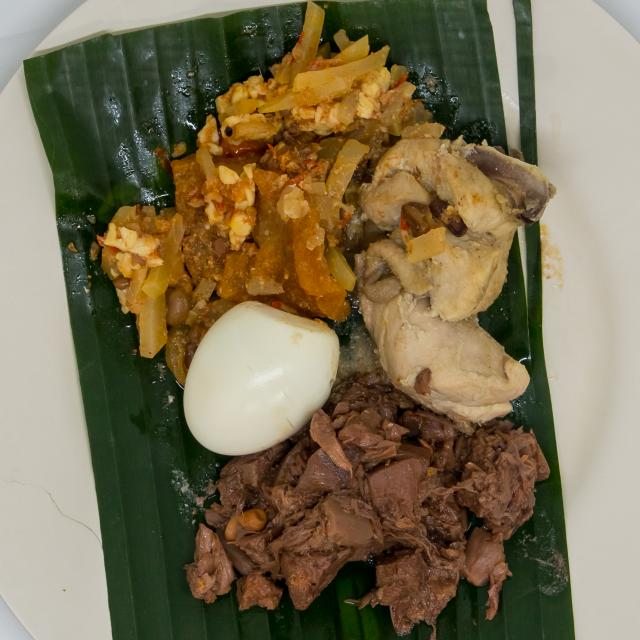Gudeg-Jogja: (64, 18, 564, 628)
